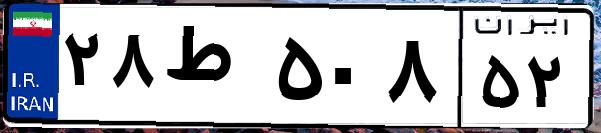0: (330, 28, 385, 110)
2: (57, 26, 110, 100), (525, 38, 570, 115)
5: (270, 28, 330, 110), (475, 38, 525, 113)
8: (385, 28, 445, 110), (110, 28, 158, 98)
ط: (158, 20, 270, 120)
